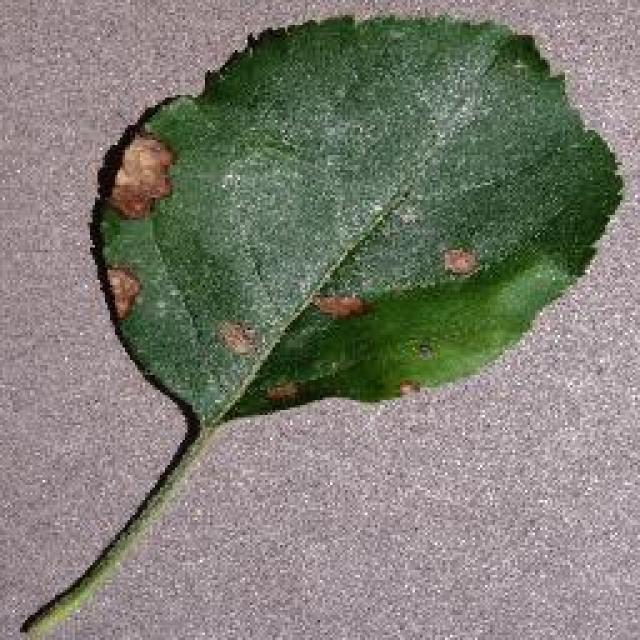Black_rot: (17, 10, 625, 638)
